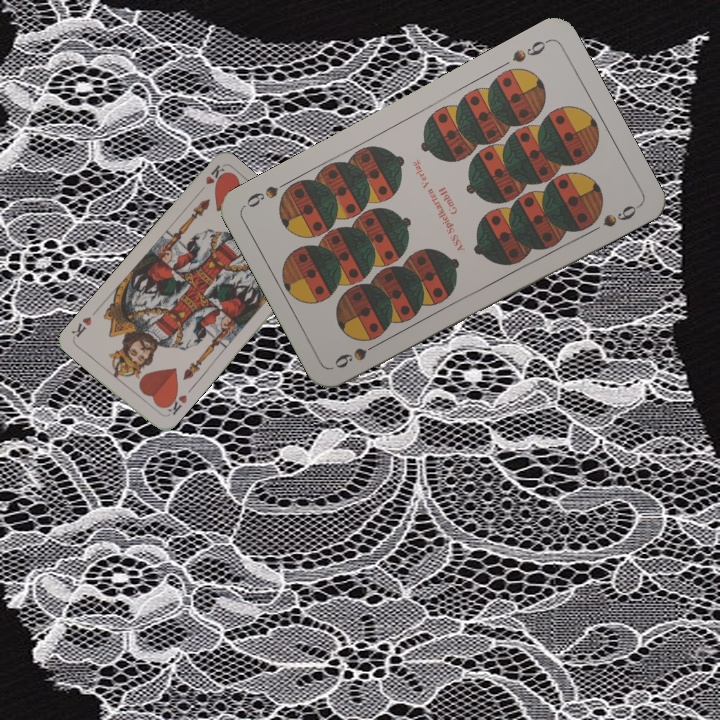HK: (193, 161, 228, 197), (160, 389, 190, 419)
S9: (330, 336, 386, 371), (508, 35, 552, 65)
